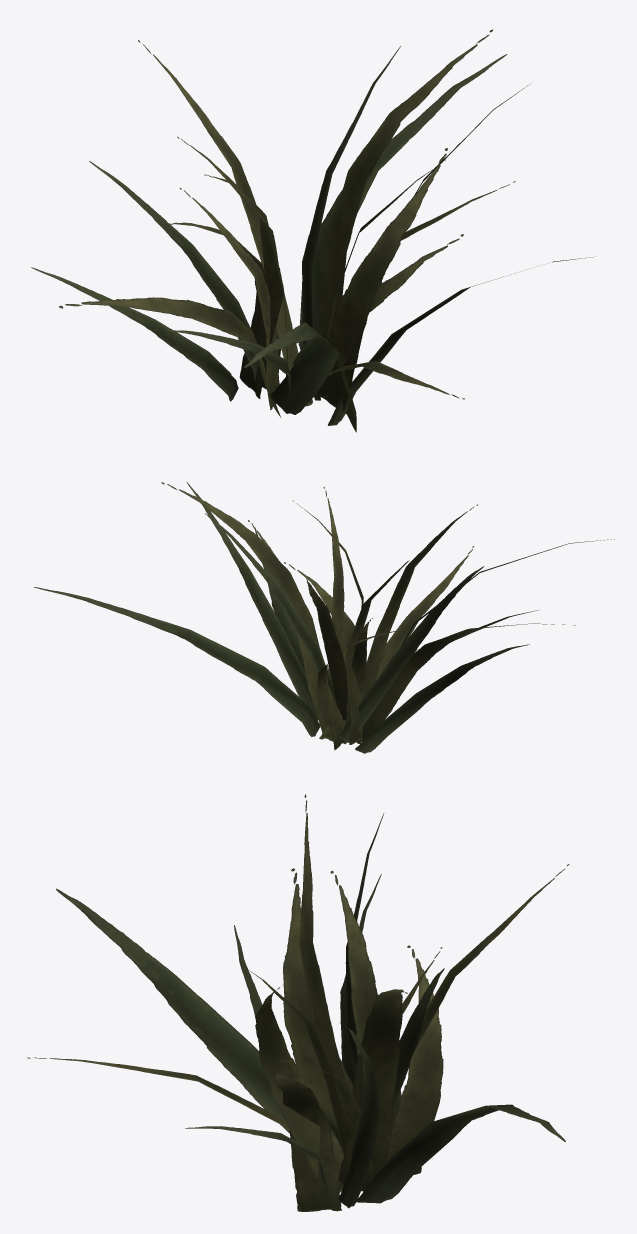
The model's file is mg_9_plant_3.fbx.
3 renders of one model, top to bottom at view 1: azimuth 30°, elevation 25°; view 2: azimuth 150°, elevation 25°; view 3: azimuth 270°, elevation 25°, orthographic. The views are drawn at different scales.
Visible parts, largest first — view 1: mg_9_plant_3; view 2: mg_9_plant_3; view 3: mg_9_plant_3.
Boxes of the visible parts, bbox=[...] form: mg_9_plant_3: bbox=[31, 29, 595, 432]; mg_9_plant_3: bbox=[34, 482, 614, 753]; mg_9_plant_3: bbox=[27, 794, 569, 1211].
Bounding box in the file's own units: 173 × 93.85 × 150.
